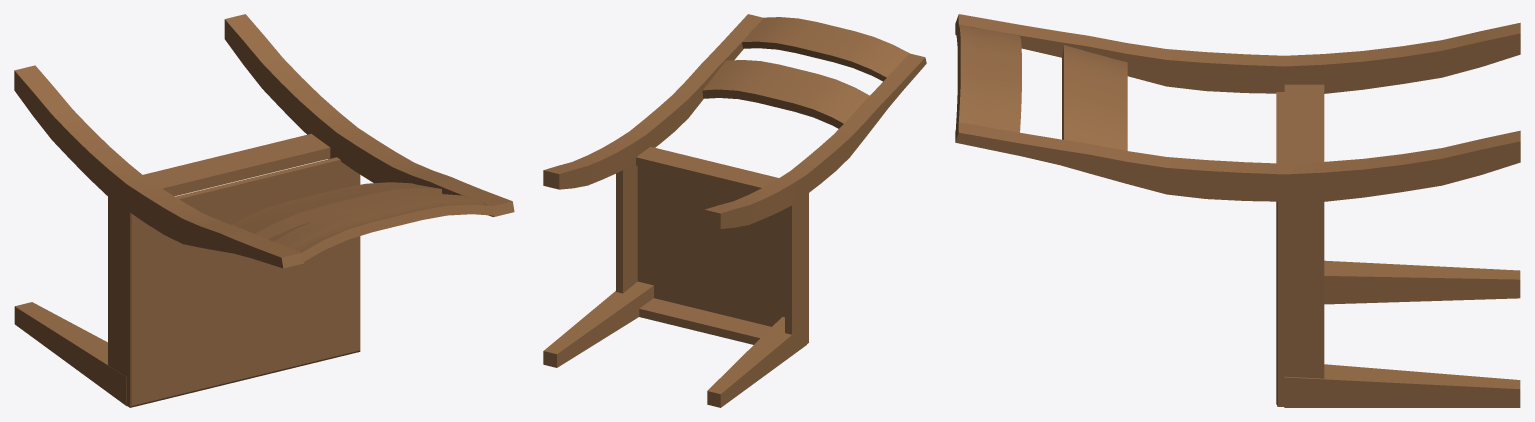
The model's file is chair.obj.
The picture shows the model from 3 angles, left to right: view 1: azimuth 30°, elevation 25°; view 2: azimuth 150°, elevation 25°; view 3: azimuth 270°, elevation 25°; orthographic projection. The views are drawn at different scales.
Visible parts, largest first — view 1: Box698, Box697, Box702, Box695, Box701, Box696, Box705, Box704; view 2: Box698, Box697, Box702, Box696, Box695, Box699, Box705, Box701, Box704, Box700, Box703; view 3: Box702, Box697, Box699, Box703, Box705, Box695, Box696, Box701, Box698.
Boxes of the visible parts, x1,y1,x2,y2 form: Box698: (126, 157, 360, 407); Box697: (14, 65, 303, 268); Box702: (224, 14, 514, 217); Box695: (274, 194, 493, 261); Box701: (143, 133, 330, 196); Box696: (231, 182, 442, 239); Box705: (14, 302, 127, 406); Box704: (108, 197, 126, 376); Box698: (637, 166, 808, 343); Box697: (704, 53, 926, 228); Box702: (543, 14, 762, 189); Box696: (702, 60, 869, 128); Box695: (742, 17, 909, 81); Box699: (543, 281, 653, 367); Box705: (707, 317, 806, 407); Box701: (636, 146, 778, 193); Box704: (785, 195, 806, 334); Box700: (639, 298, 771, 344); Box703: (616, 162, 637, 293); Box702: (955, 122, 1520, 201); Box697: (955, 14, 1520, 93); Box699: (1284, 364, 1520, 407); Box703: (1284, 201, 1324, 378); Box705: (1324, 260, 1520, 304); Box695: (955, 24, 1021, 132); Box696: (1062, 45, 1127, 150); Box701: (1284, 84, 1324, 163); Box698: (1276, 92, 1284, 406).
Bounding box in the file's own units: 47.82 × 54.18 × 96.25.
